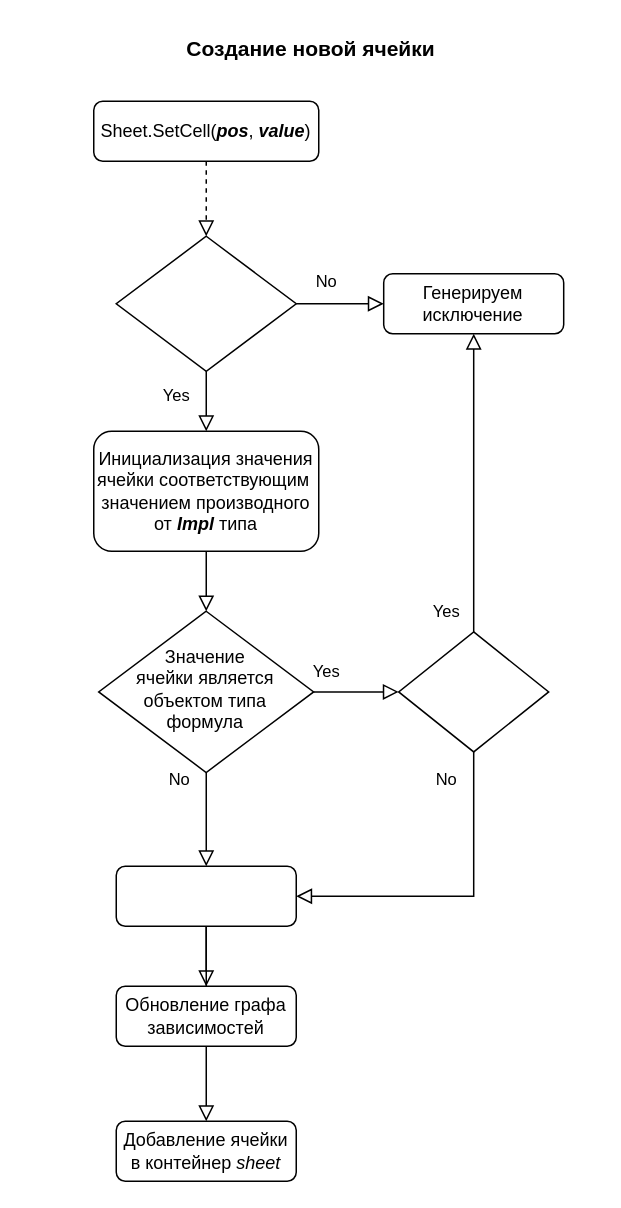
The diagram is 621 pixels wide and 1208 high, and some of its shapes have lost their labels. The shapes that lost their labels are listed below. From the top down, each one's box as (x1, y1, x2, y2) in pixels, then its label:
(115, 235, 296, 371): Валидация значения value
(397, 630, 549, 752): Наличие циклических ссылок
(115, 865, 296, 926): Инвалидация кэша
